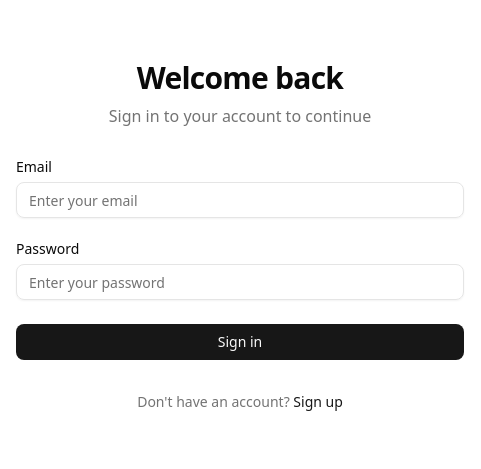
Test: Auth Integration › Login Flow › navigates from login to register
Expected: the heading "Welcome back" is shown, [137, 57, 343, 98]
Click the link "Sign up" at (318, 402), box [293, 392, 343, 411]
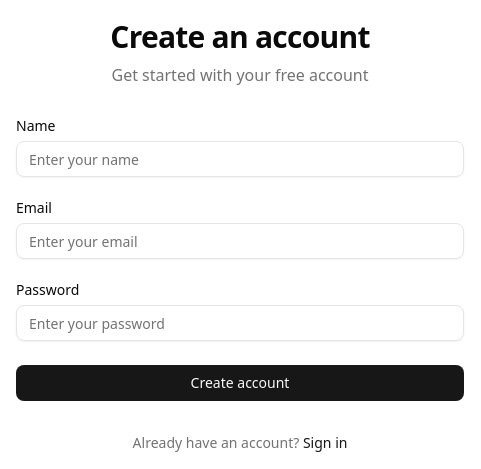
Now the heading "Create an account" is shown, box [110, 16, 370, 57]
